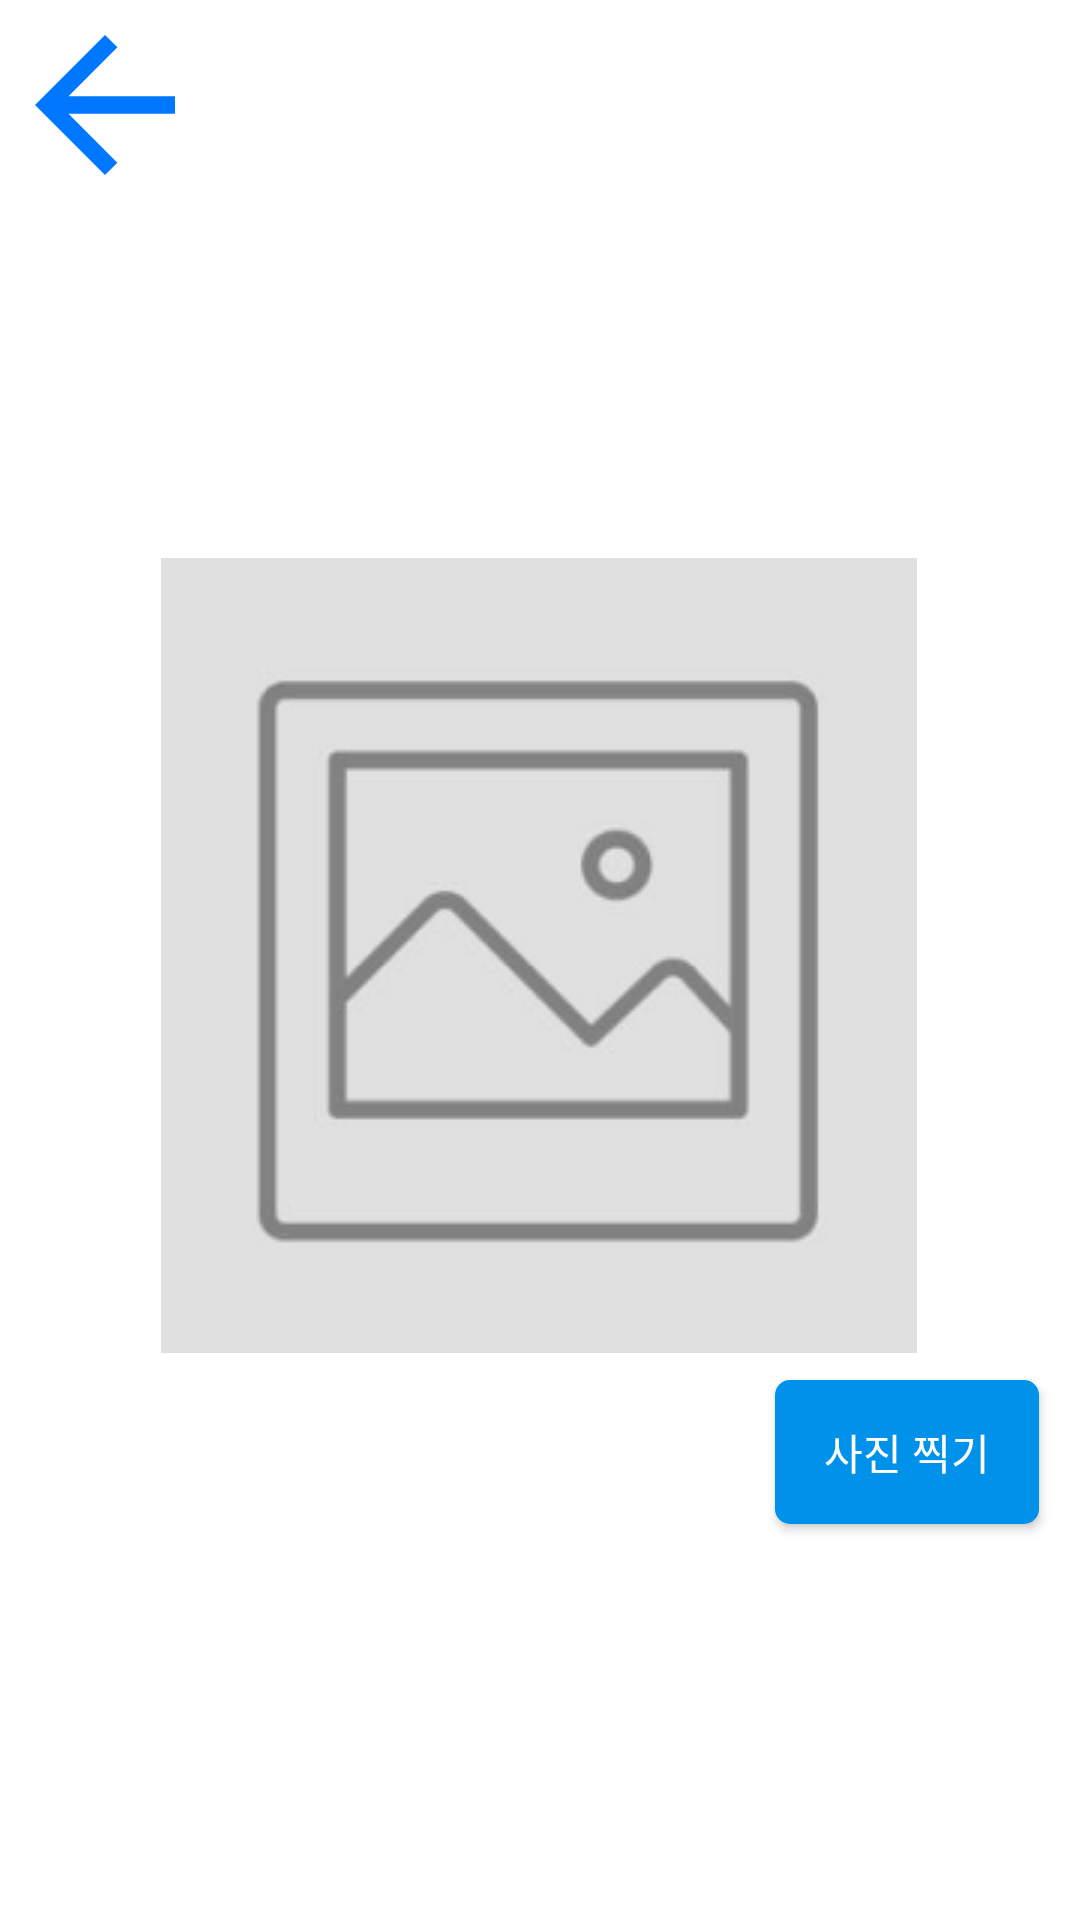

Icon bounding boxes for this 1080px x 1920px phone screenshot, format (x1, y1, x2, y2):
arrow back: (35, 35, 175, 175)
